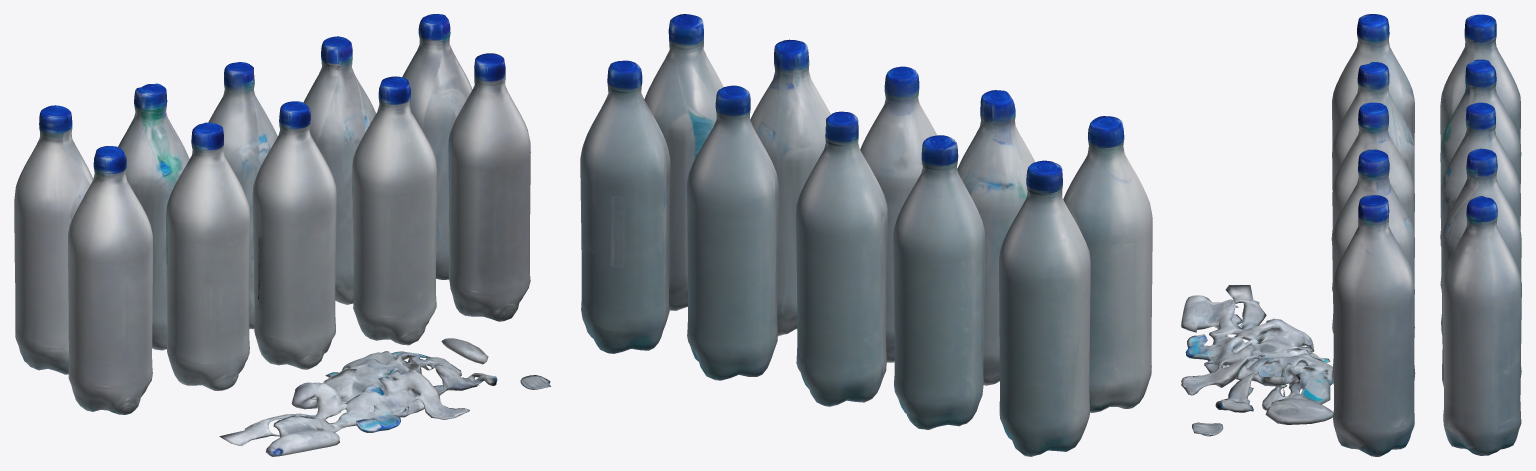
The model's file is removing_labels_from__1226145202_texture.fbx.
3 renders of one model, left to right at view 1: azimuth 30°, elevation 25°; view 2: azimuth 150°, elevation 25°; view 3: azimuth 270°, elevation 25°, orthographic. The views are drawn at different scales.
Visible parts, largest first — view 1: Mesh1_Mesh1.006; view 2: Mesh1_Mesh1.006; view 3: Mesh1_Mesh1.006.
Part boxes in pixels (x1,y1,x2,y2): Mesh1_Mesh1.006: [14, 14, 550, 456]; Mesh1_Mesh1.006: [580, 14, 1152, 456]; Mesh1_Mesh1.006: [1181, 14, 1521, 456].
Bounding box in the file's own units: 200 × 108 × 134.
Materials: 1 (1 with a texture image).
